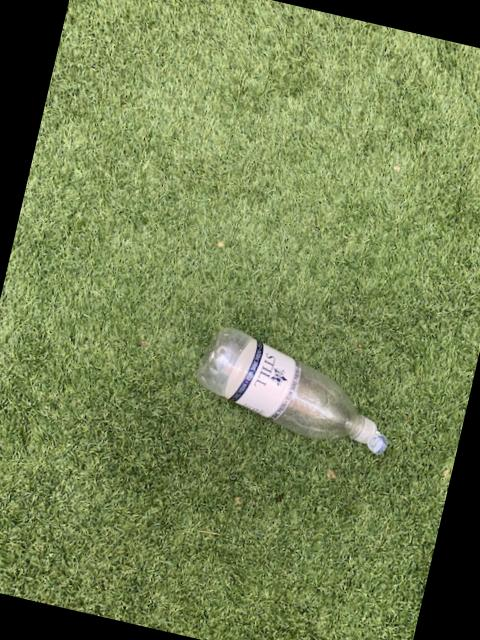plastic: (194, 325, 383, 451)
